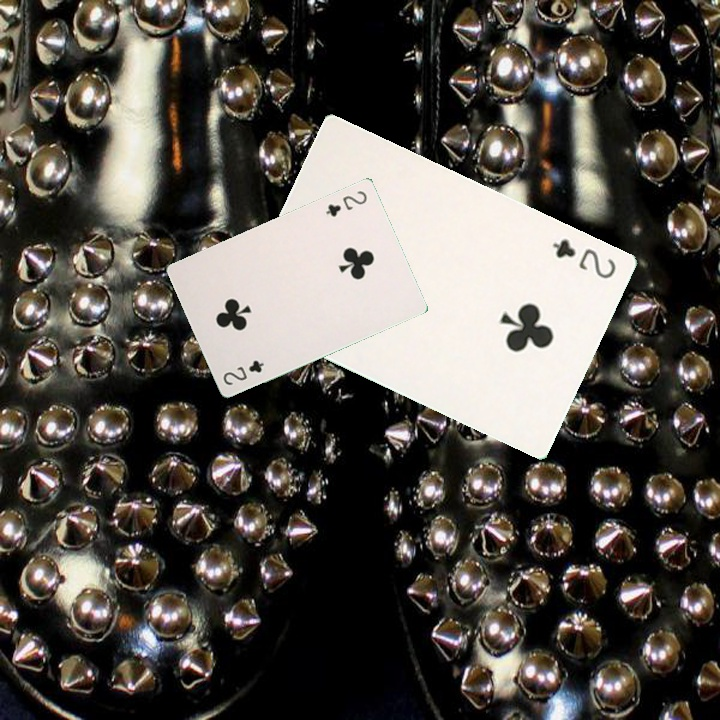2c: (548, 234, 619, 282), (321, 186, 370, 219), (219, 356, 267, 388)
